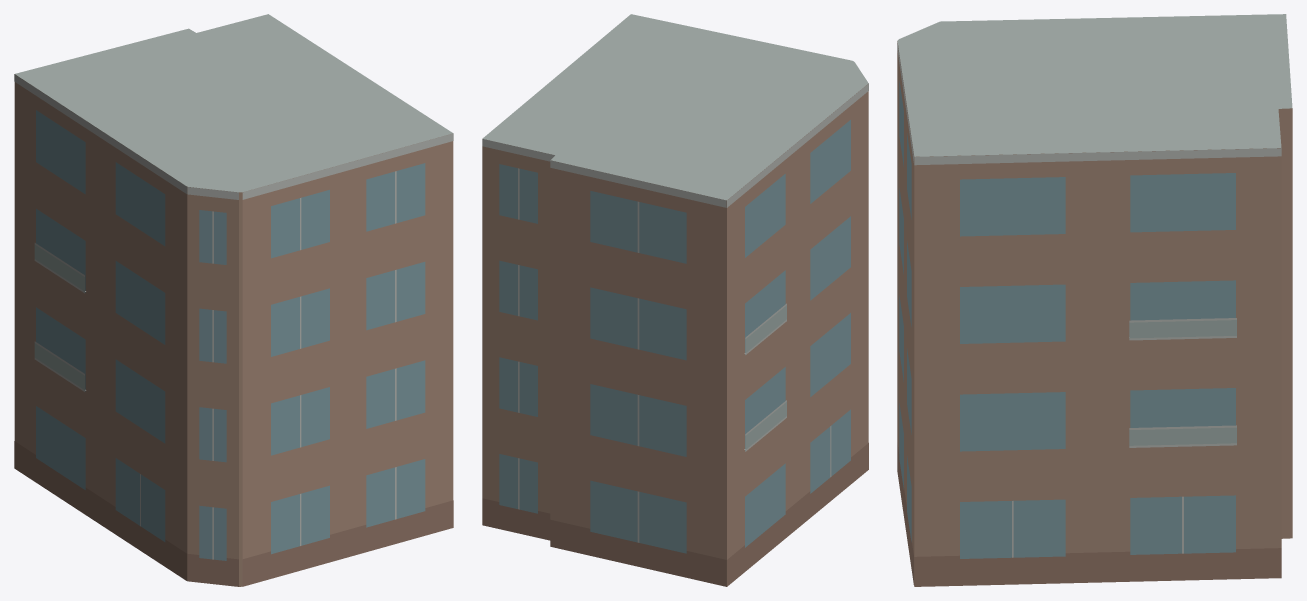
The model's file is survey-upis-32680227.glb.
3 views of the same model, side by side, from view 1: azimuth 30°, elevation 25°; view 2: azimuth 150°, elevation 25°; view 3: azimuth 270°, elevation 25° (orthographic). The views are drawn at different scales.
Visible parts, largest first — view 1: survey-upis-32680227.tmp; view 2: survey-upis-32680227.tmp; view 3: survey-upis-32680227.tmp.
Part boxes in pixels (<box>): survey-upis-32680227.tmp: <box>14,14,453,586</box>; survey-upis-32680227.tmp: <box>482,14,868,586</box>; survey-upis-32680227.tmp: <box>897,14,1292,586</box>.
Bounding box in the file's own units: 8.91 × 12.5 × 10.42.
